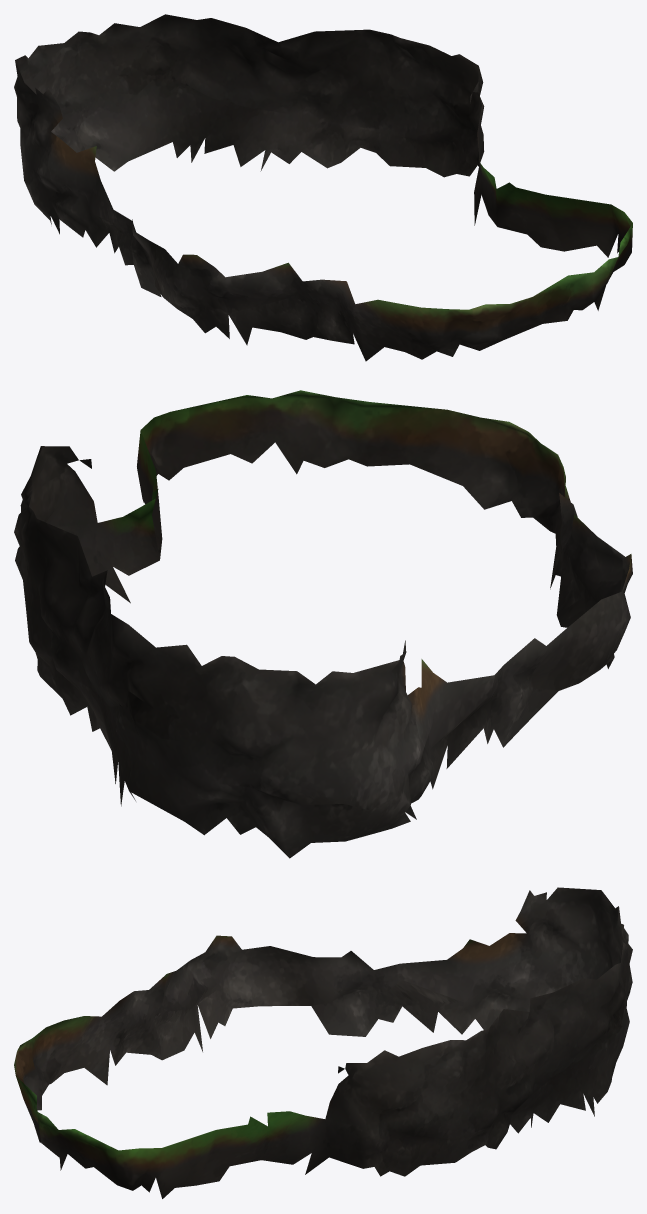
File: platform4collider2.fbx
The picture shows the model from 3 angles, top to bottom: view 1: azimuth 30°, elevation 25°; view 2: azimuth 150°, elevation 25°; view 3: azimuth 270°, elevation 25°; orthographic projection. The views are drawn at different scales.
Visible parts, largest first — view 1: platform4collider2; view 2: platform4collider2; view 3: platform4collider2.
Boxes of the visible parts, x1,y1,x2,y2 form: platform4collider2: (14,14,632,361); platform4collider2: (14,390,632,858); platform4collider2: (14,887,632,1198).
Bounding box in the file's own units: 10416 × 3755 × 13913.
